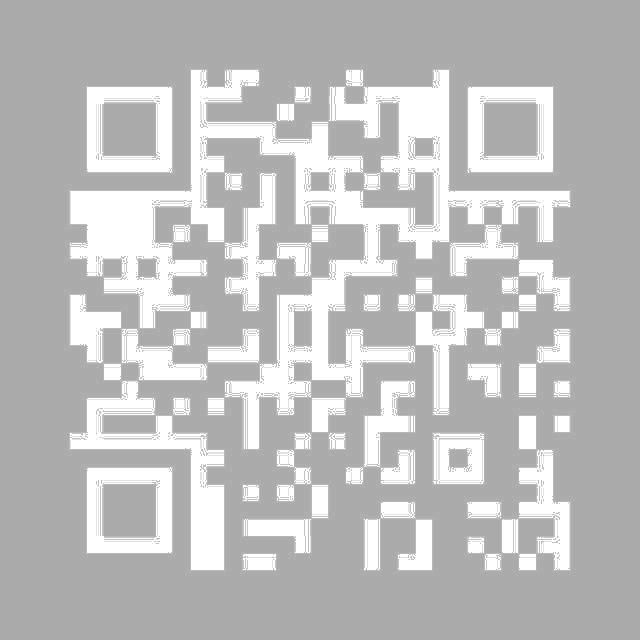qr_code: (44, 48, 597, 593)
